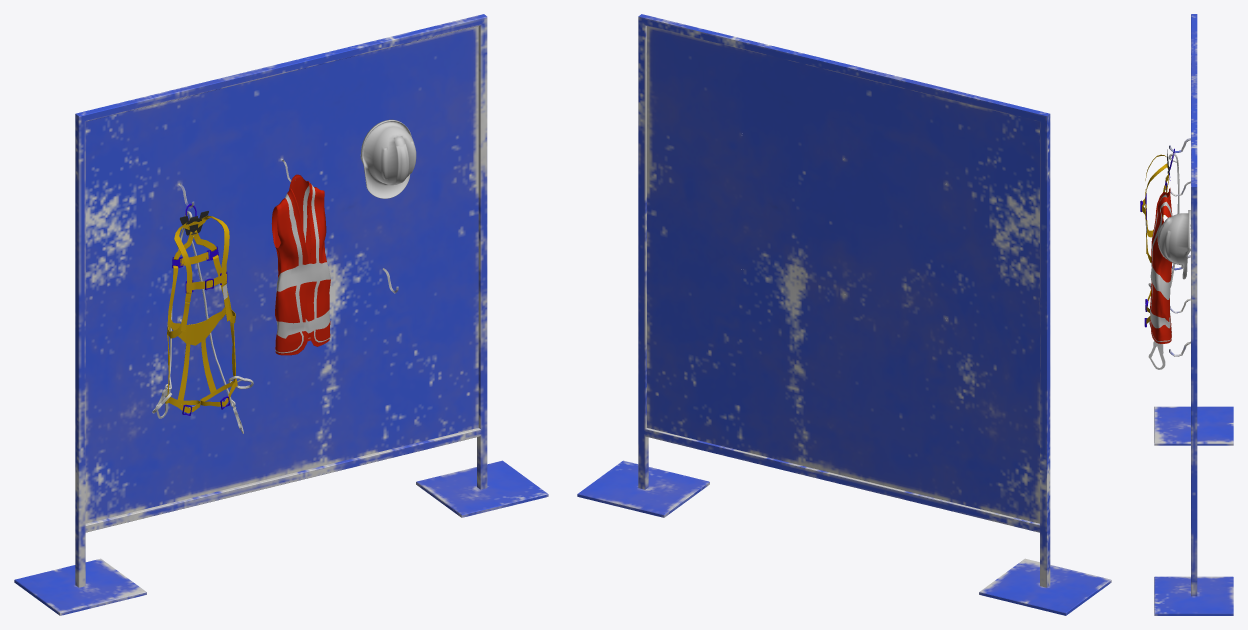
The model's file is PPE Kit on hanger_02.fbx.
3 views of the same model, side by side, from view 1: azimuth 30°, elevation 25°; view 2: azimuth 150°, elevation 25°; view 3: azimuth 270°, elevation 25° (orthographic). The views are drawn at different scales.
Parts seen in each view (by area): view 1: PPE Stand.001, Jacket_geo.001, Harness_geo.009, Helmet_geo.002; view 2: PPE Stand.001; view 3: PPE Stand.001, Jacket_geo.001, Helmet_geo.002, Harness_geo.009, Rope.001, Lanyard._01.001.
Boxes of the visible parts, bbox=[...] form: PPE Stand.001: bbox=[14, 14, 548, 615]; Jacket_geo.001: bbox=[271, 174, 330, 355]; Harness_geo.009: bbox=[165, 203, 237, 415]; Helmet_geo.002: bbox=[360, 119, 416, 198]; PPE Stand.001: bbox=[577, 14, 1111, 615]; PPE Stand.001: bbox=[1154, 14, 1233, 615]; Jacket_geo.001: bbox=[1150, 188, 1172, 343]; Helmet_geo.002: bbox=[1157, 210, 1190, 279]; Harness_geo.009: bbox=[1140, 148, 1174, 327]; Rope.001: bbox=[1168, 153, 1179, 287]; Lanyard._01.001: bbox=[1148, 341, 1165, 369].
Size of the model in its own units: 184 by 171 by 35.19.
